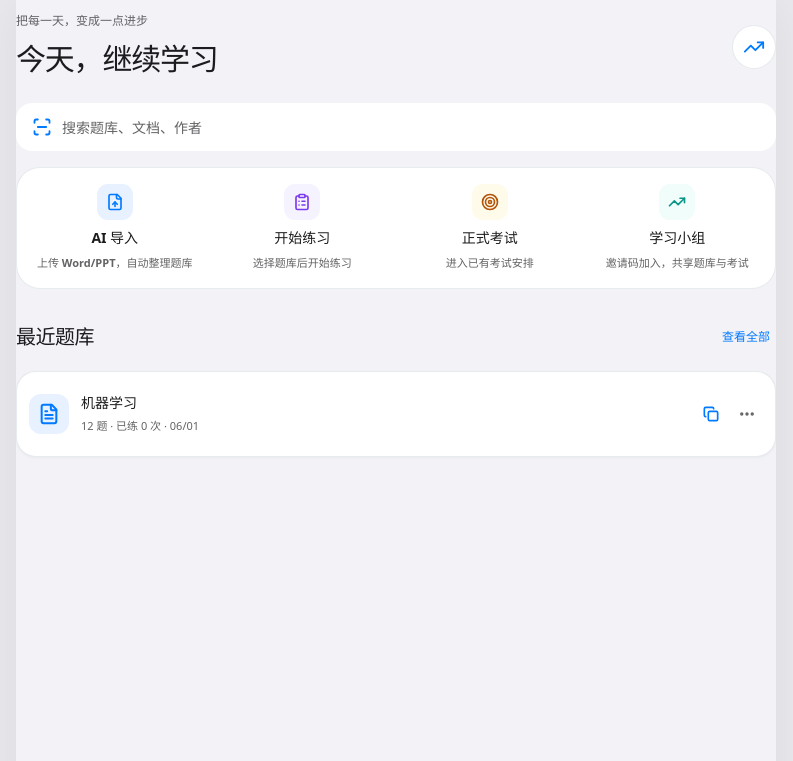
Scenario: Home UX polish › keeps a trailing management button for each recent course
Expected: the 9th icon is shown, 738,404 -> 756,422
Click the button named "管理题库：机器学习". click: x=747, y=414
box: 729,392 -> 765,436
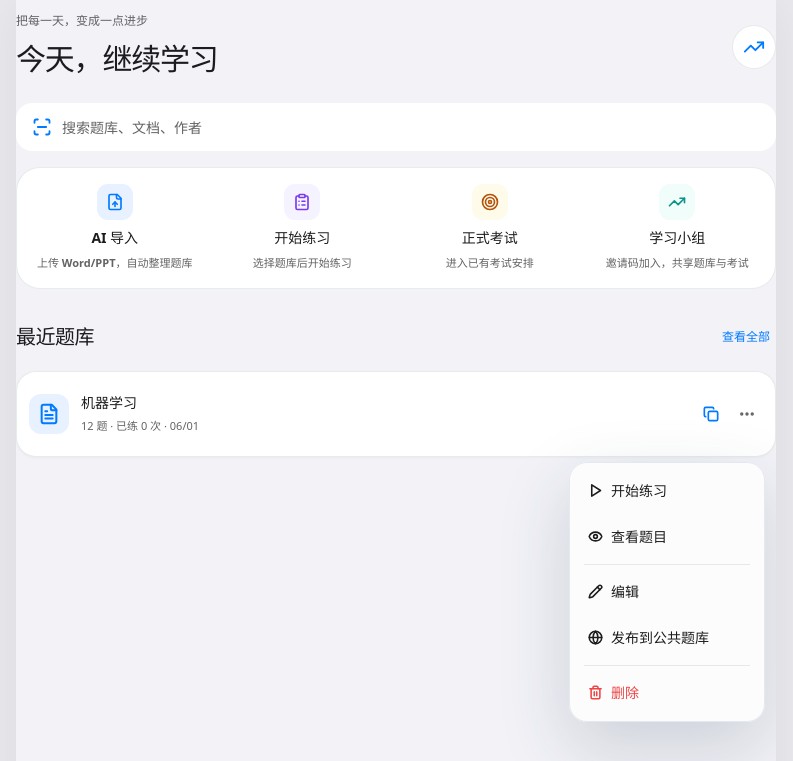
Now the number of buttons with class "home-menu-option" is 5, box 576,468 -> 758,512; 576,514 -> 758,558; 576,570 -> 758,614; 576,616 -> 758,660; 576,670 -> 758,714
